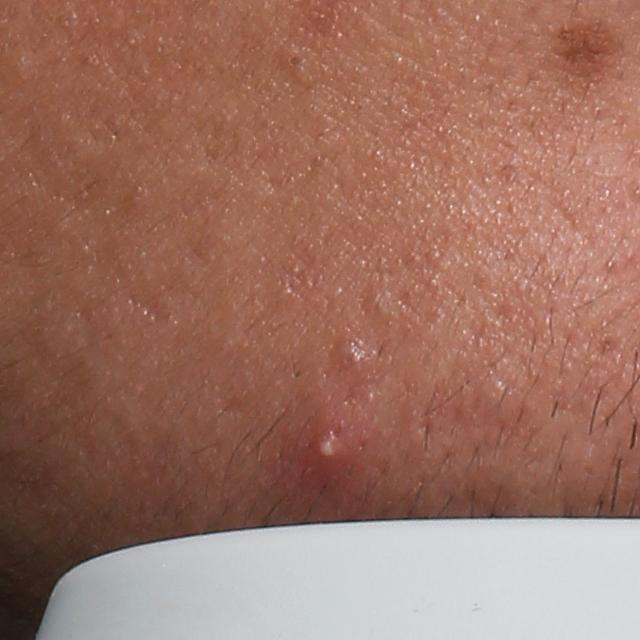comedo: (281, 41, 318, 86)
papule: (332, 343, 368, 377)
pustule: (278, 383, 372, 505)
